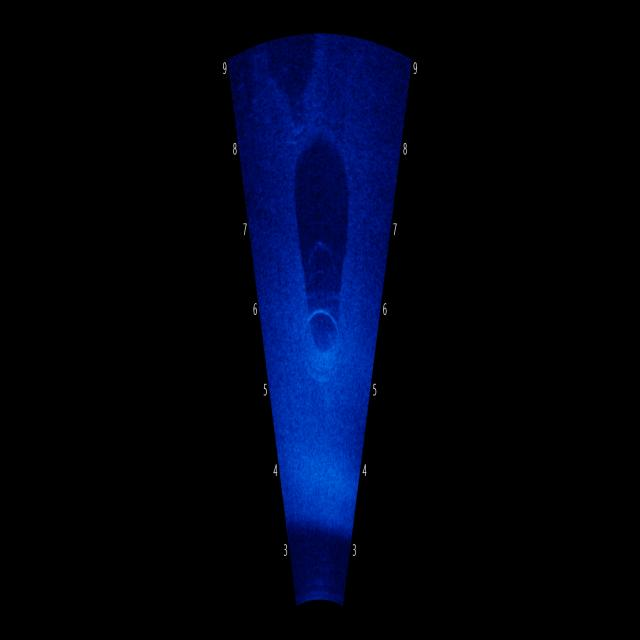circle: (294, 266, 353, 430)
